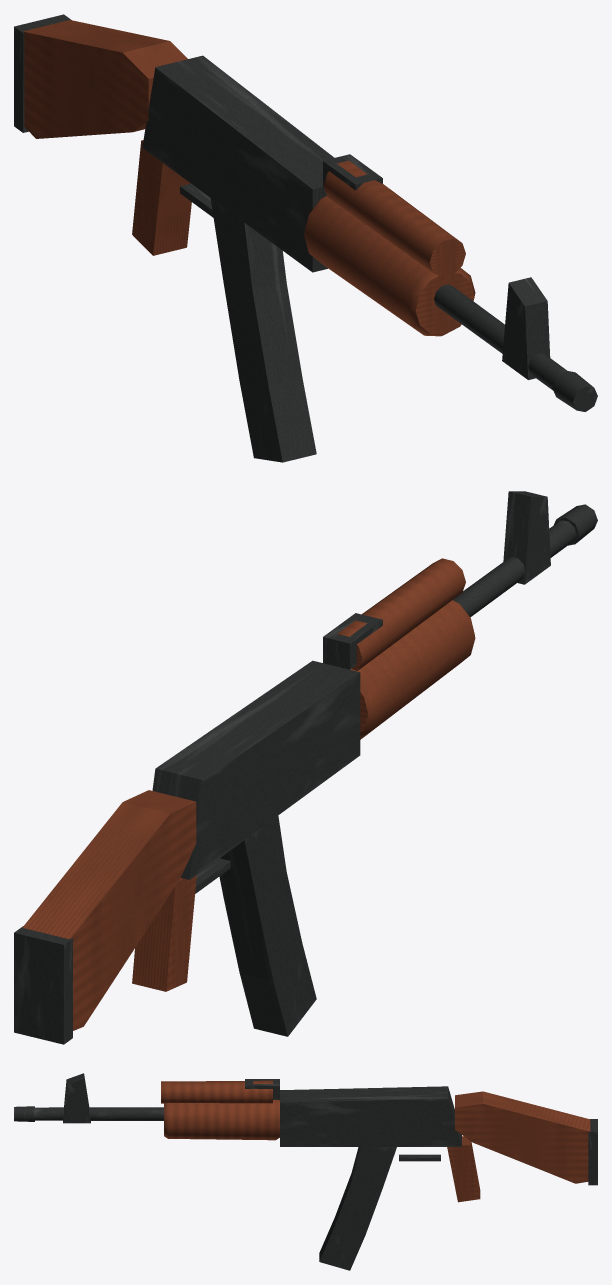
Rendered from weapon-ak.glb.
3 renders of one model, top to bottom at view 1: azimuth 30°, elevation 25°; view 2: azimuth 150°, elevation 25°; view 3: azimuth 270°, elevation 25°, orthographic. The views are drawn at different scales.
Visible parts, largest first — view 1: weapon-ak; view 2: weapon-ak; view 3: weapon-ak.
Boxes of the visible parts, left/top/right/bottom form: weapon-ak: left=14, top=14, right=597, bottom=462; weapon-ak: left=14, top=491, right=597, bottom=1044; weapon-ak: left=14, top=1073, right=597, bottom=1270.
Bounding box in the file's own units: 0.064 × 0.3 × 0.834.
Materials: 1 (1 with a texture image).
